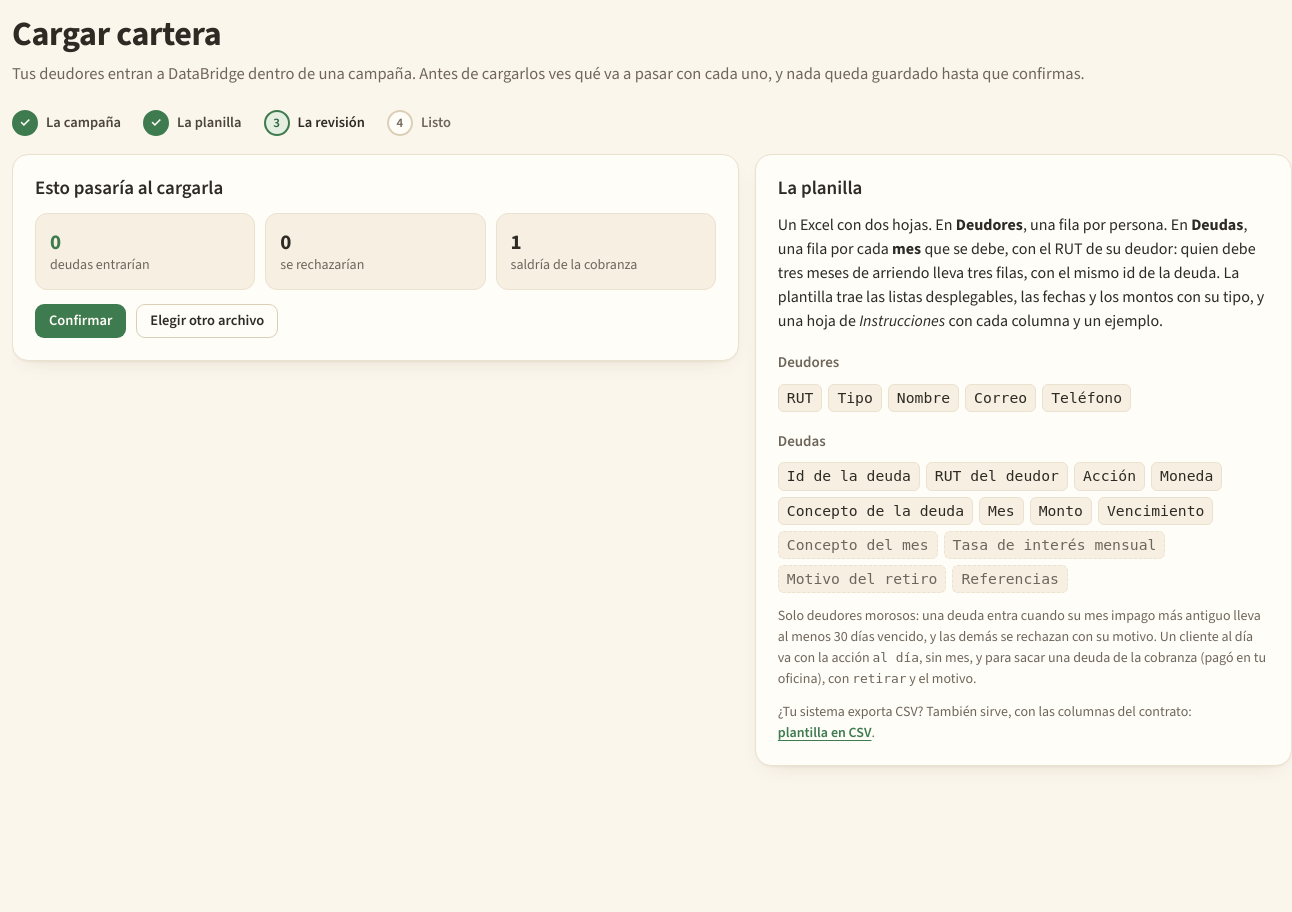
no reemplaza la planilla durante una revisión ni duplica peticiones
Earlier steps of the test are not shown.
Expected: the heading "Esto pasaría al cargarla" is shown, [35,174,223,200]
Click the button "Confirmar": (81, 321) [35,304,126,338]
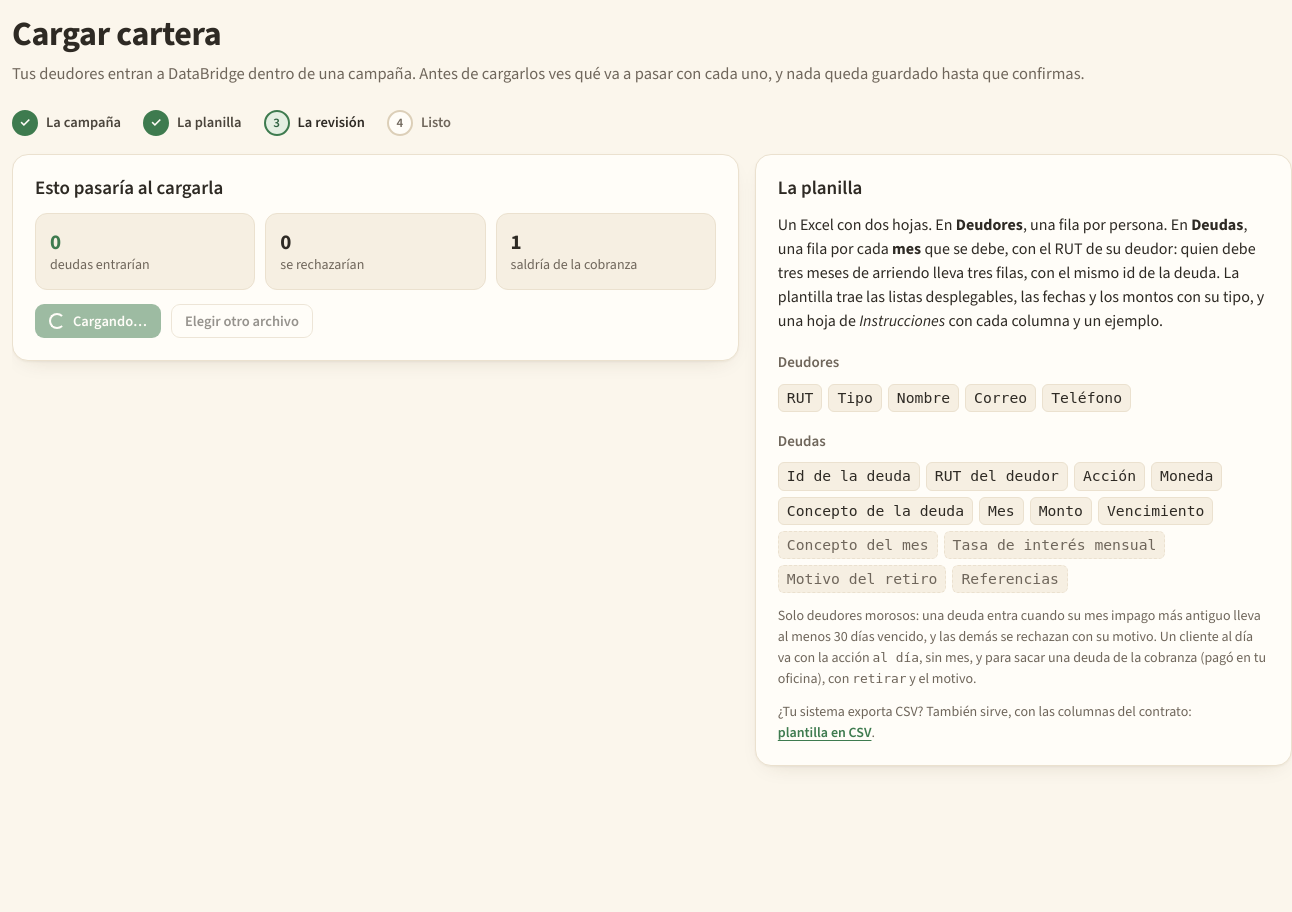
Click the button "Cargando…": (98, 322) [35,304,161,338]
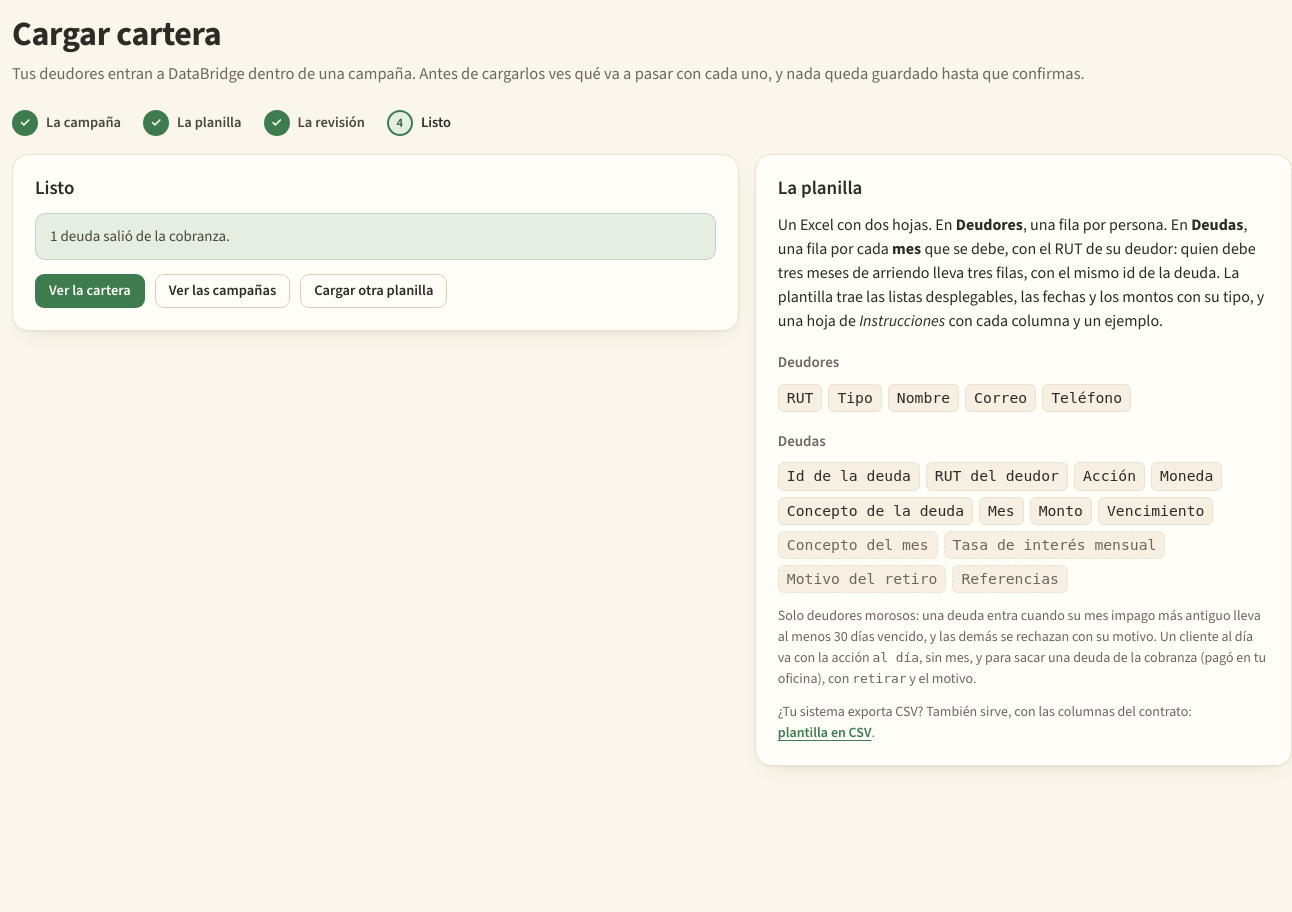
Result: the heading "Listo" is shown at [35,174,74,200]
